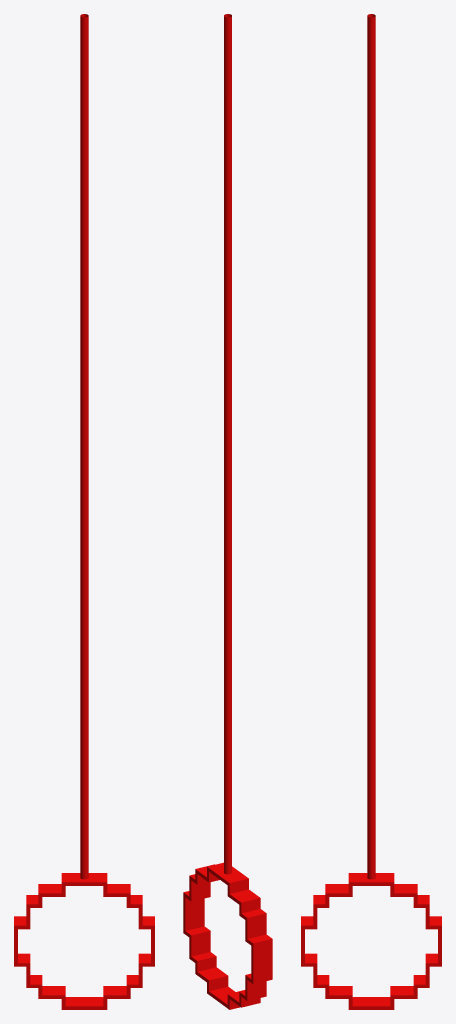
The model's file is cutter1_pixel.fbx.
The picture shows the model from 3 angles, left to right: view 1: azimuth 90°, elevation 25°; view 2: azimuth 210°, elevation 25°; view 3: azimuth 270°, elevation 25°; orthographic projection.
Parts seen in each view (by area): view 1: Cutter1_Pixel; view 2: Cutter1_Pixel; view 3: Cutter1_Pixel.
Part boxes in pixels (x1,y1,x2,y2): Cutter1_Pixel: (14,14,154,1009); Cutter1_Pixel: (183,14,272,1009); Cutter1_Pixel: (301,14,441,1009).
Bounding box in the file's own units: 16.87 × 823 × 106.
